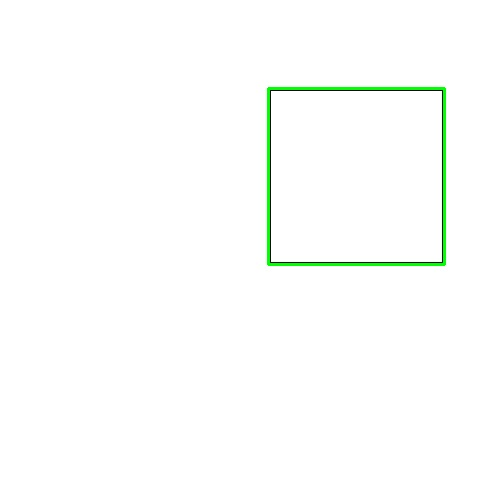line_segment: (267, 87, 446, 266)
